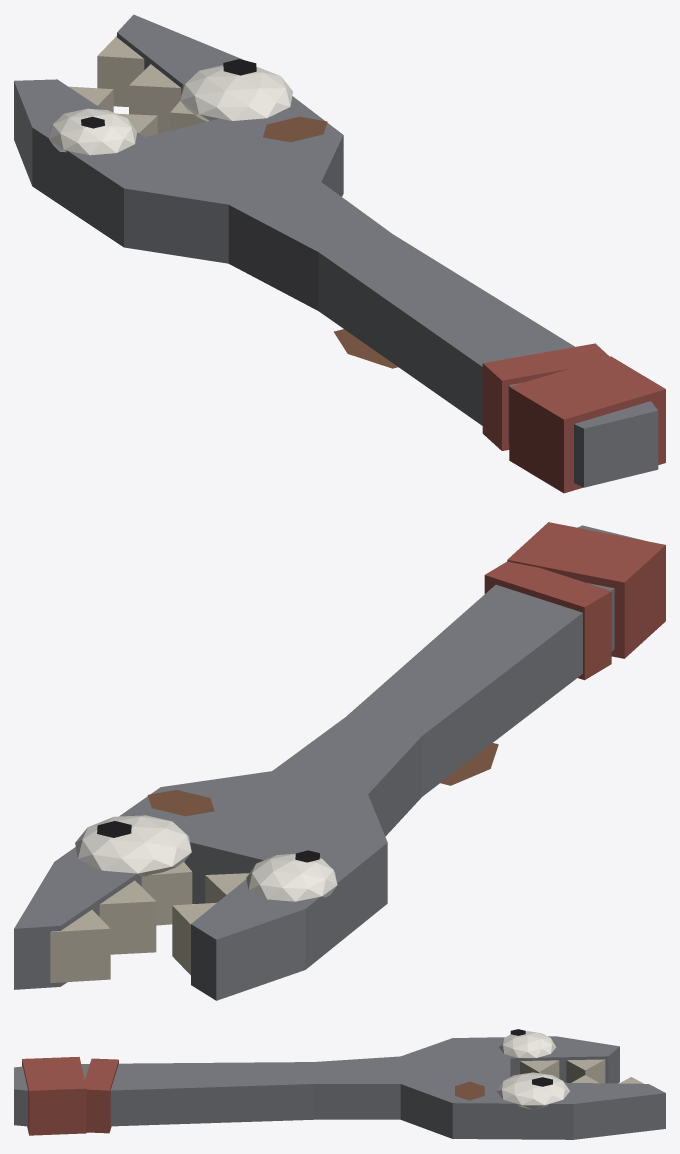
Rendered from wrench.glb.
The picture shows the model from 3 angles, top to bottom: view 1: azimuth 30°, elevation 25°; view 2: azimuth 150°, elevation 25°; view 3: azimuth 270°, elevation 25°; orthographic projection. The views are drawn at different scales.
Parts seen in each view (by area): view 1: Prop; view 2: Prop; view 3: Prop.
Boxes of the visible parts, left/top/right/bottom form: Prop: left=14, top=14, right=665, bottom=493; Prop: left=14, top=522, right=665, bottom=1000; Prop: left=14, top=1029, right=665, bottom=1139.
Size of the model in its own units: 0.14 by 0.05 by 0.56.
